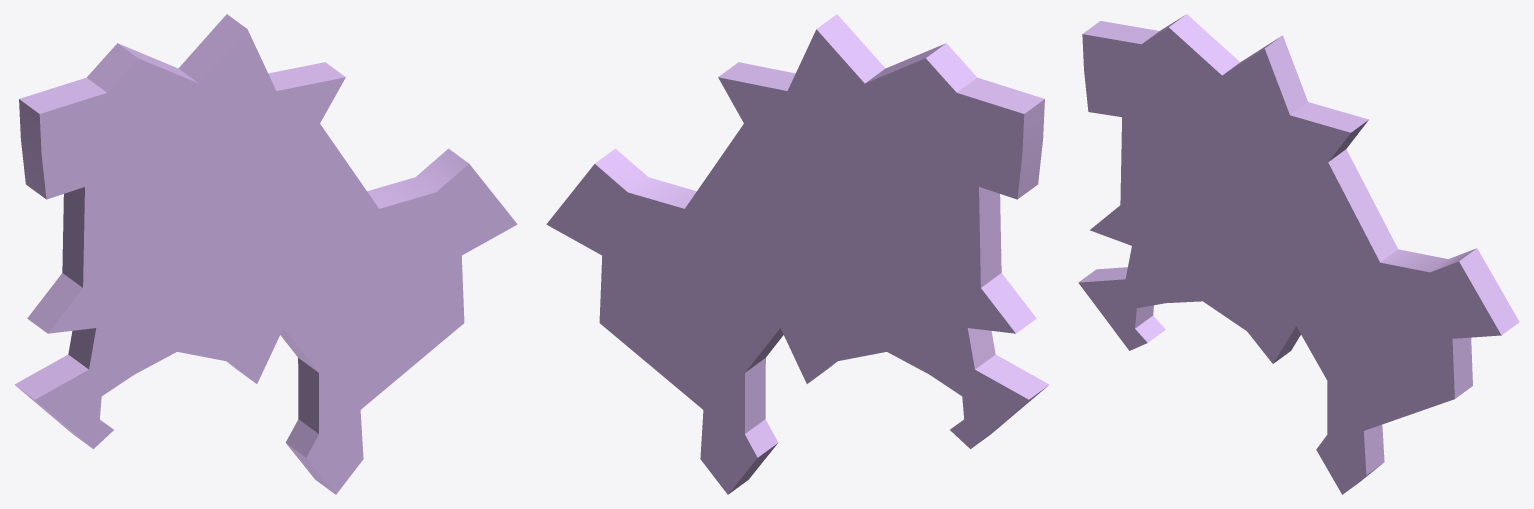
File: penon_blanco.fbx
The picture shows the model from 3 angles, left to right: view 1: azimuth 30°, elevation 25°; view 2: azimuth 150°, elevation 25°; view 3: azimuth 330°, elevation 25°; orthographic projection. The views are drawn at different scales.
Visible parts, largest first — view 1: peñon_blanco; view 2: peñon_blanco; view 3: peñon_blanco.
Part boxes in pixels (bbox=[...]): peñon_blanco: bbox=[14, 14, 517, 494]; peñon_blanco: bbox=[546, 14, 1049, 494]; peñon_blanco: bbox=[1078, 14, 1519, 494].
Bounding box in the file's own units: 108 × 104 × 8.
